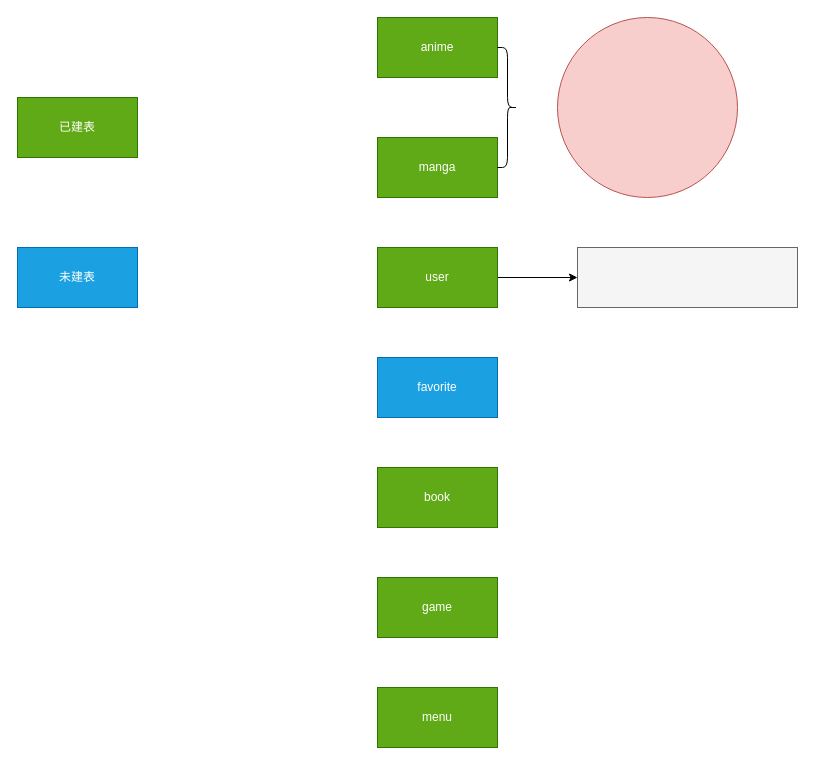
The diagram is 815 pixels wide and 765 high, and some of its shapes have lost their labels. The centre of each missing label's shape, as x and y in pixels:
"开放式api和自己的数据库结合 只有详情时查询自身数据库" belongs at point 647,107.
"目前两个用户，不分权限" belongs at point 687,277.
